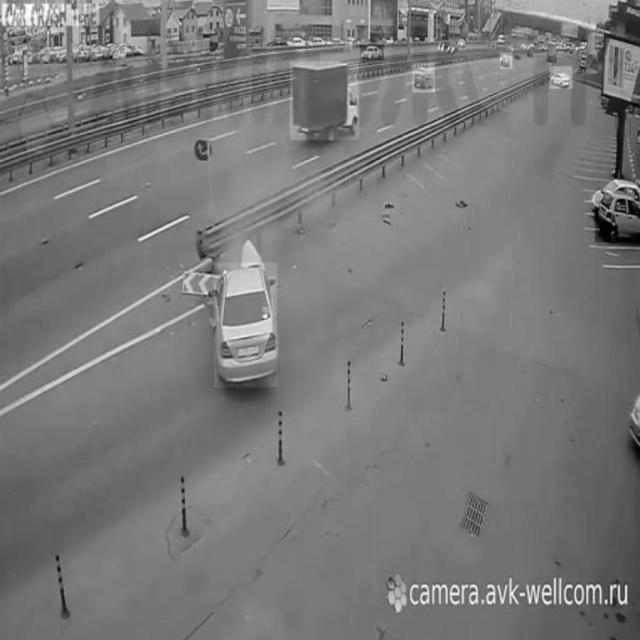vehicle: (214, 262, 278, 388), (290, 62, 358, 140), (595, 193, 640, 243), (413, 63, 435, 93), (550, 67, 572, 89), (360, 45, 384, 61), (501, 53, 513, 69)
